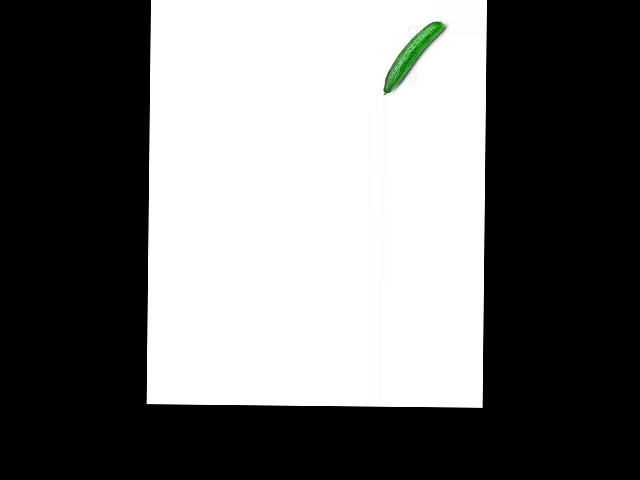cucumber: (383, 21, 445, 96)
